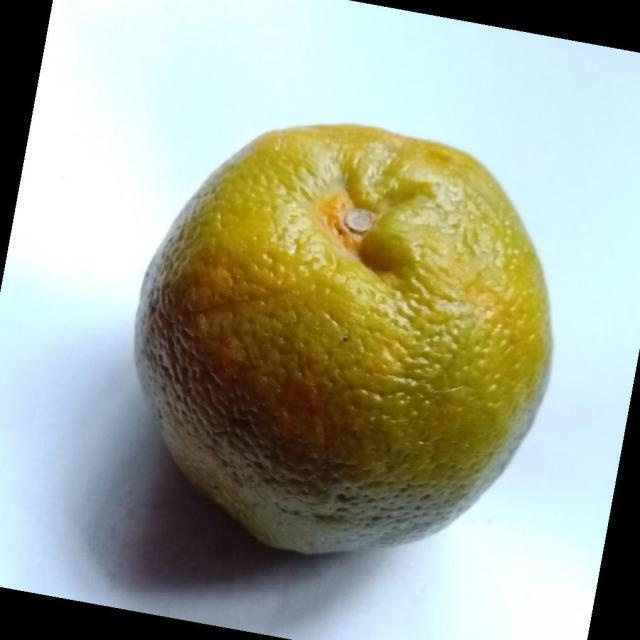agrume: (132, 122, 554, 555)
